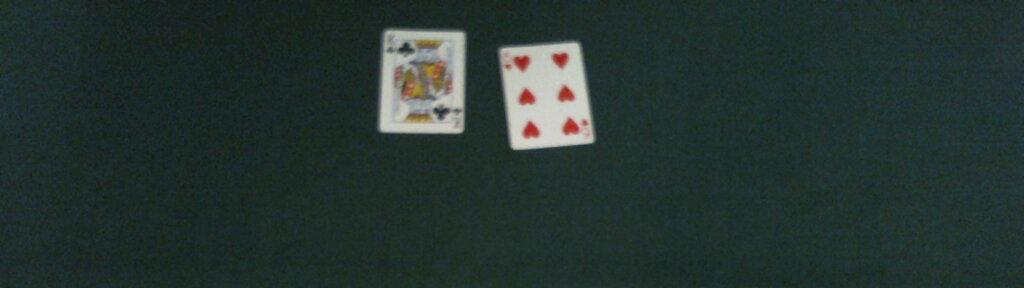king: (374, 28, 467, 133)
six: (501, 41, 595, 149)
